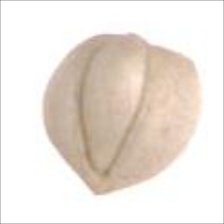L5: (76, 34, 151, 180), (70, 171, 141, 198)
L6: (38, 30, 206, 199)
